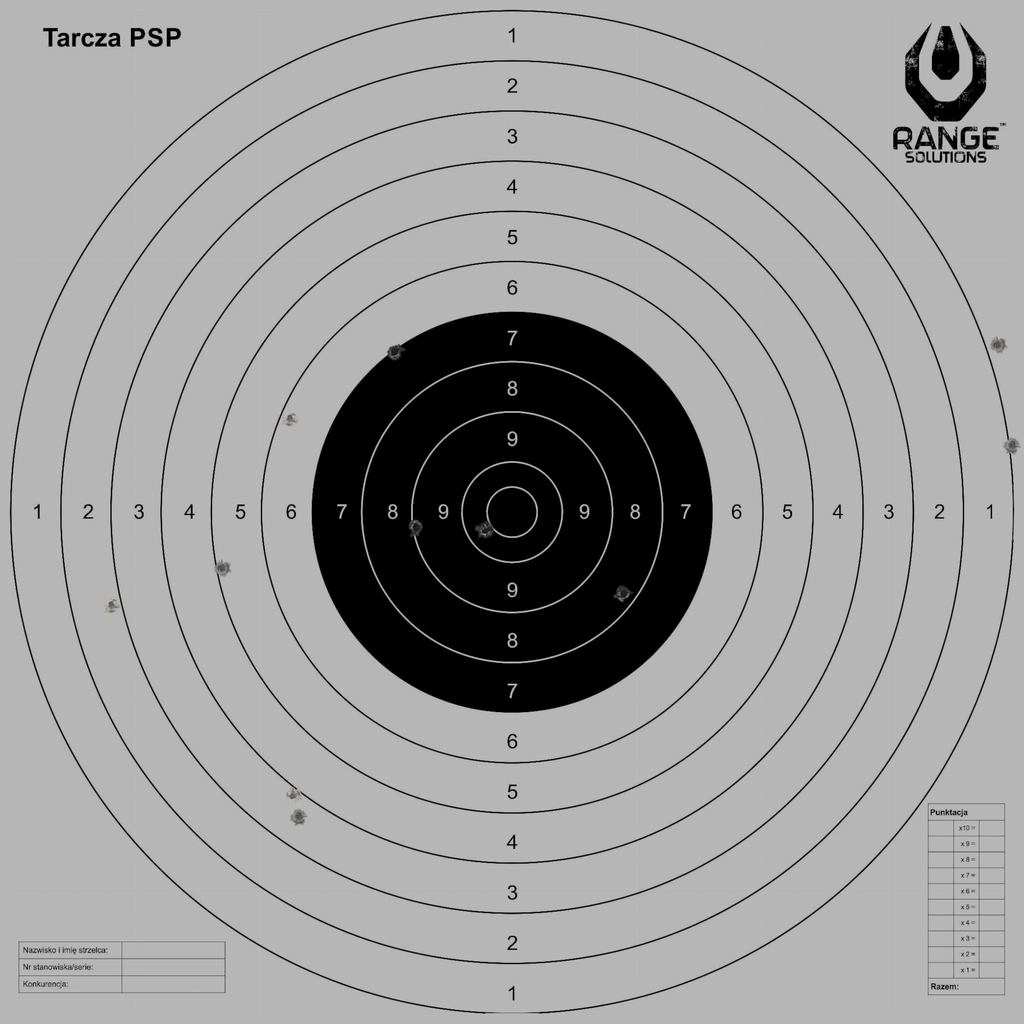0 punktow: (988, 336, 1007, 354)
1 punkt: (1003, 436, 1021, 454)
10 punktow: (476, 522, 494, 540)
2 punkty: (102, 596, 121, 614)
3 punkty: (289, 807, 308, 826)
4 punkty: (284, 787, 302, 805)
5 punktow: (213, 559, 231, 577)
6 punktow: (281, 409, 299, 428)
7 punktow: (386, 343, 404, 361)
8 punktow: (614, 585, 633, 603)
9 punktow: (407, 518, 425, 537)
